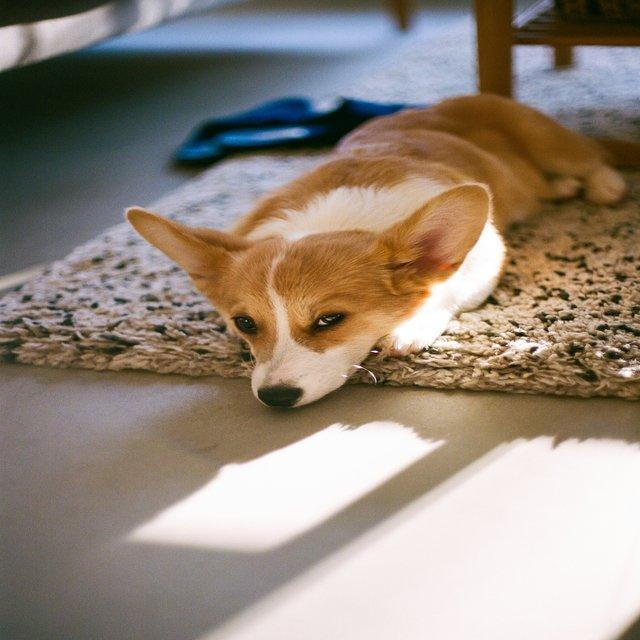corgi: (123, 90, 633, 410)
